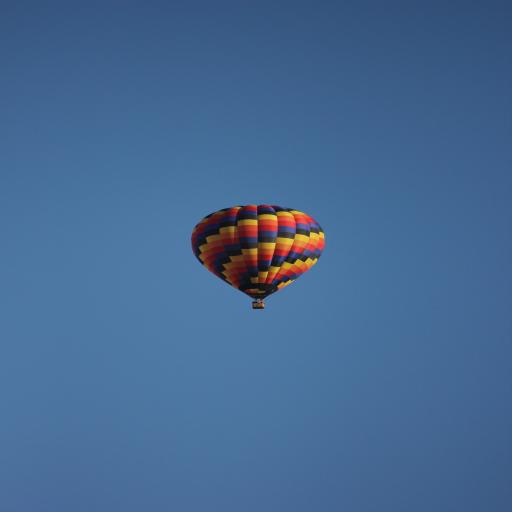hot air ballon: (190, 204, 326, 309)
